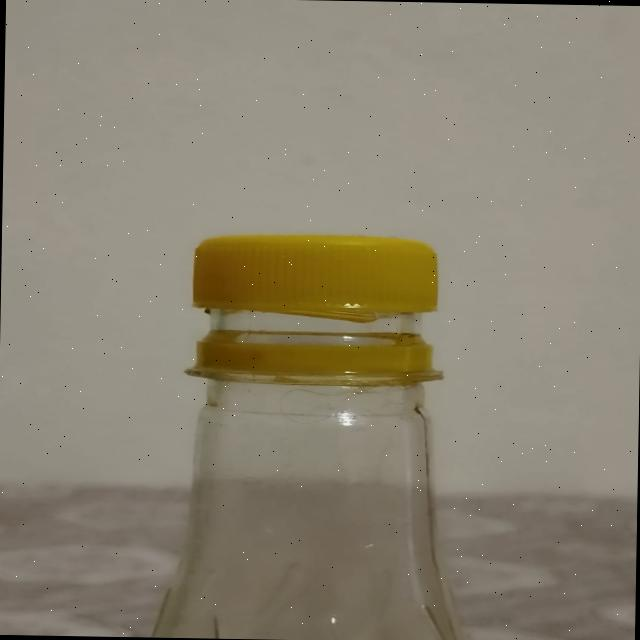bottle: (135, 215, 475, 640)
cap: (167, 226, 448, 396)
